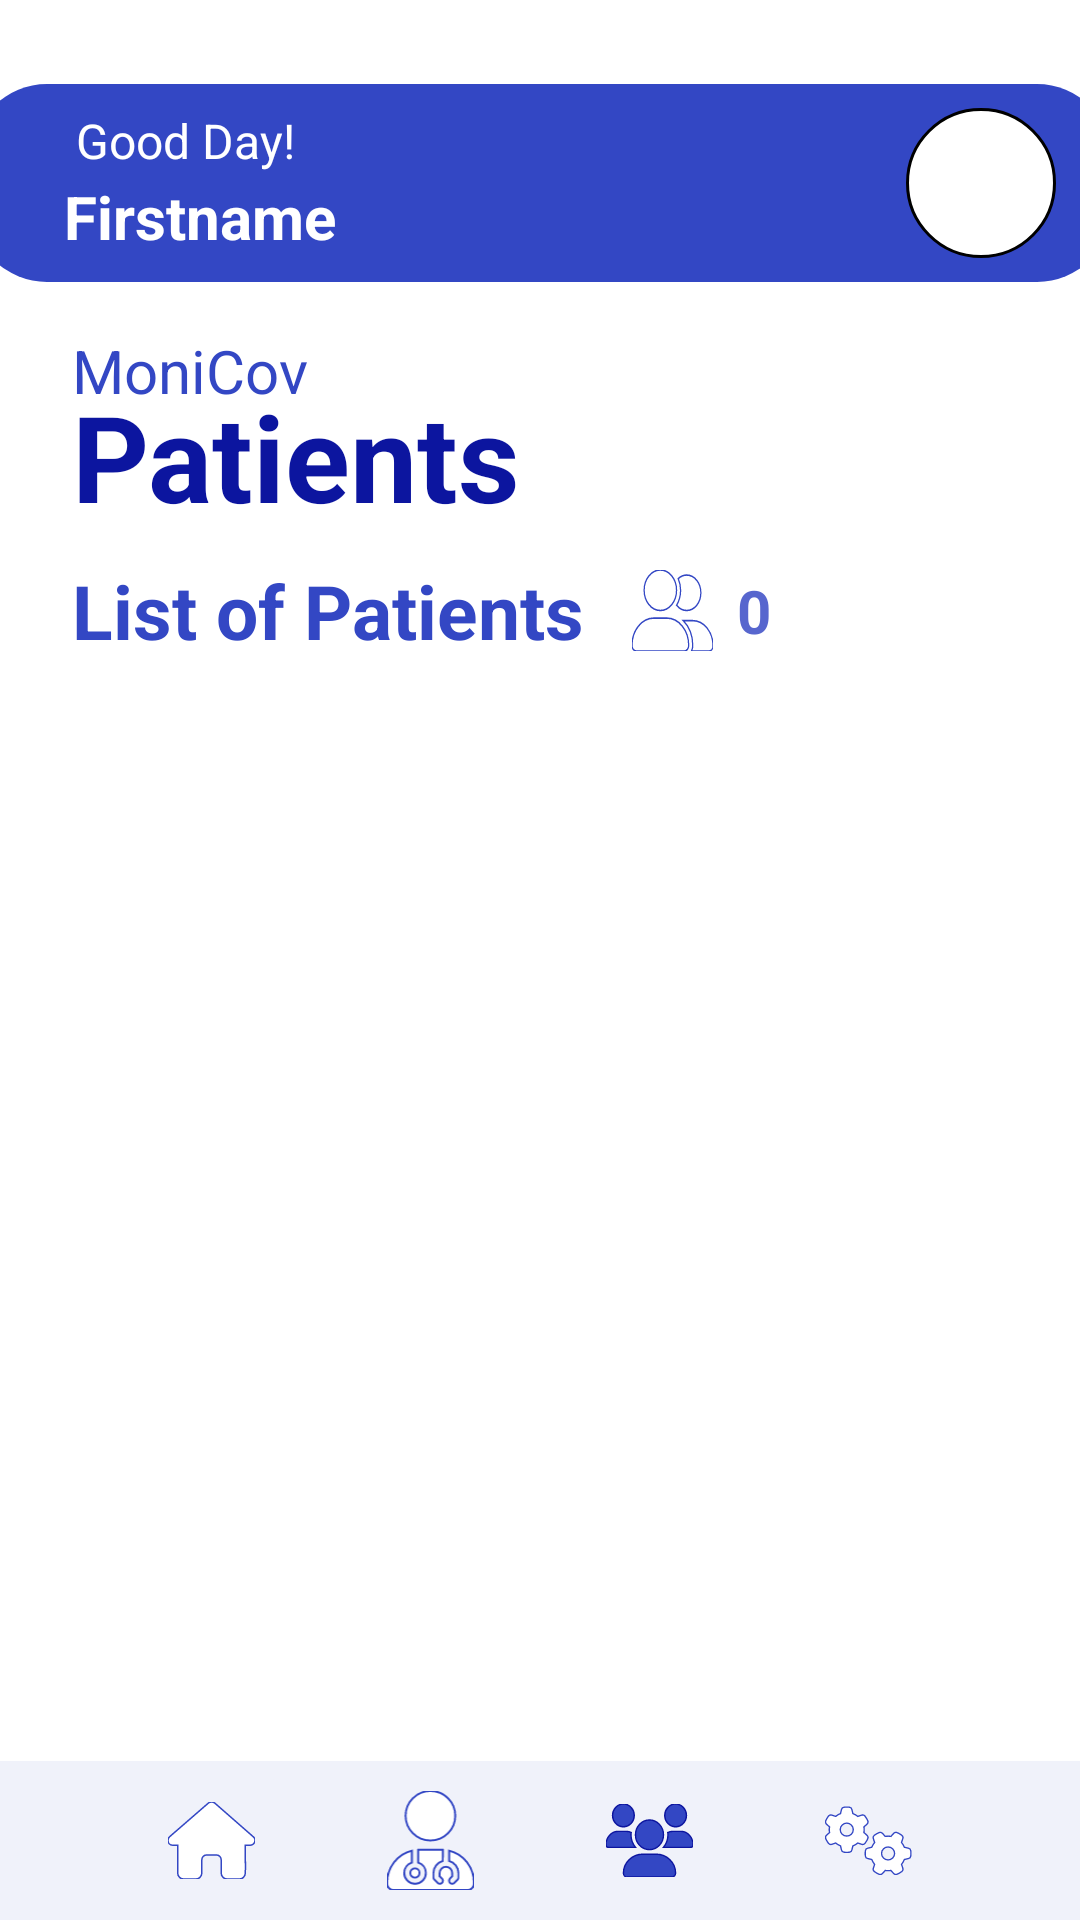

Where icons sit on this 1080×1920 app screen, as [left=x1, top=y1, right=x2, bottom=y2]:
gears: [left=825, top=1806, right=912, bottom=1875]
house: [left=168, top=1802, right=255, bottom=1879]
user doctor: [left=387, top=1791, right=474, bottom=1890]
user group: [left=632, top=570, right=713, bottom=651]
users: [left=606, top=1804, right=693, bottom=1877]
